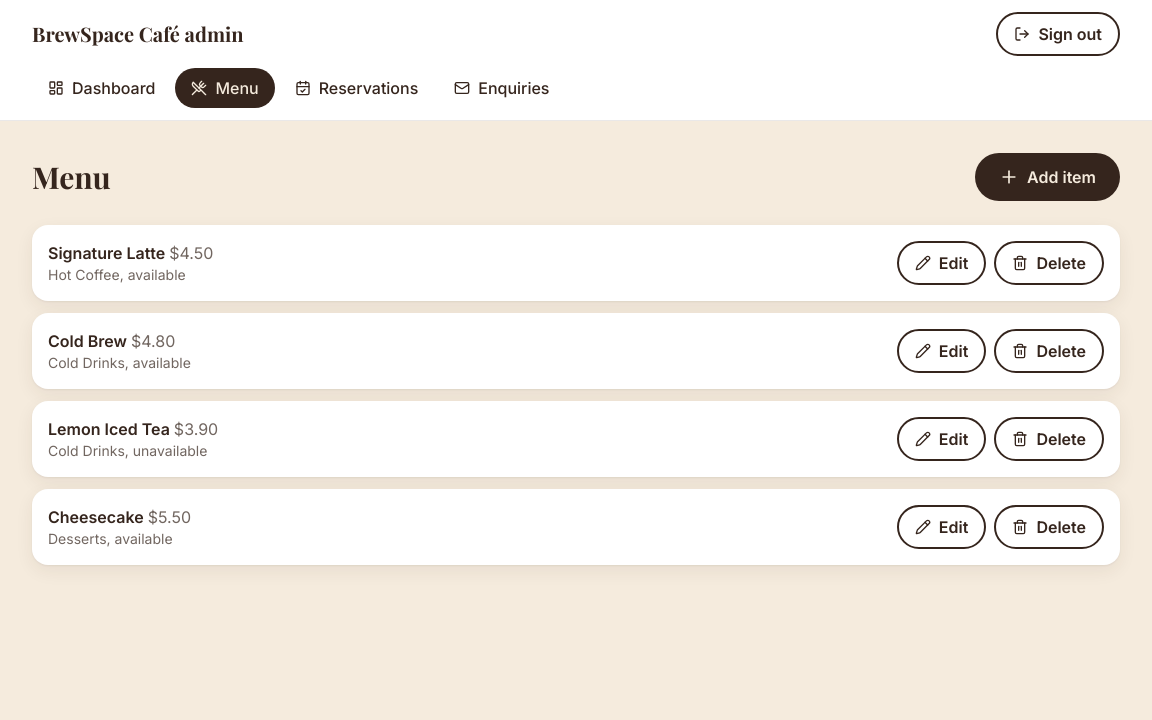
admin menu management › edits an item with PATCH
Click the button with aria-label "Edit Cold Brew" at {"x": 942, "y": 351}, box left=897, top=329, right=986, bottom=373
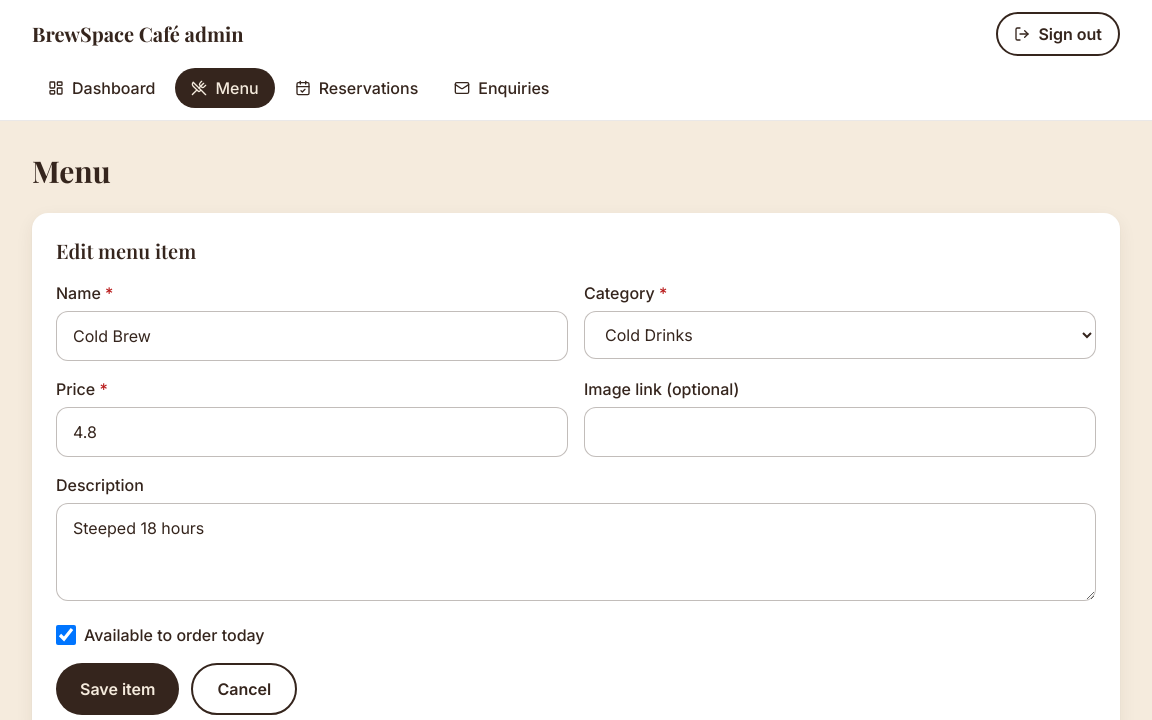
Replace the text in the number field labelled "Price *" with "5.10" at {"x": 312, "y": 432}, box left=56, top=407, right=568, bottom=457
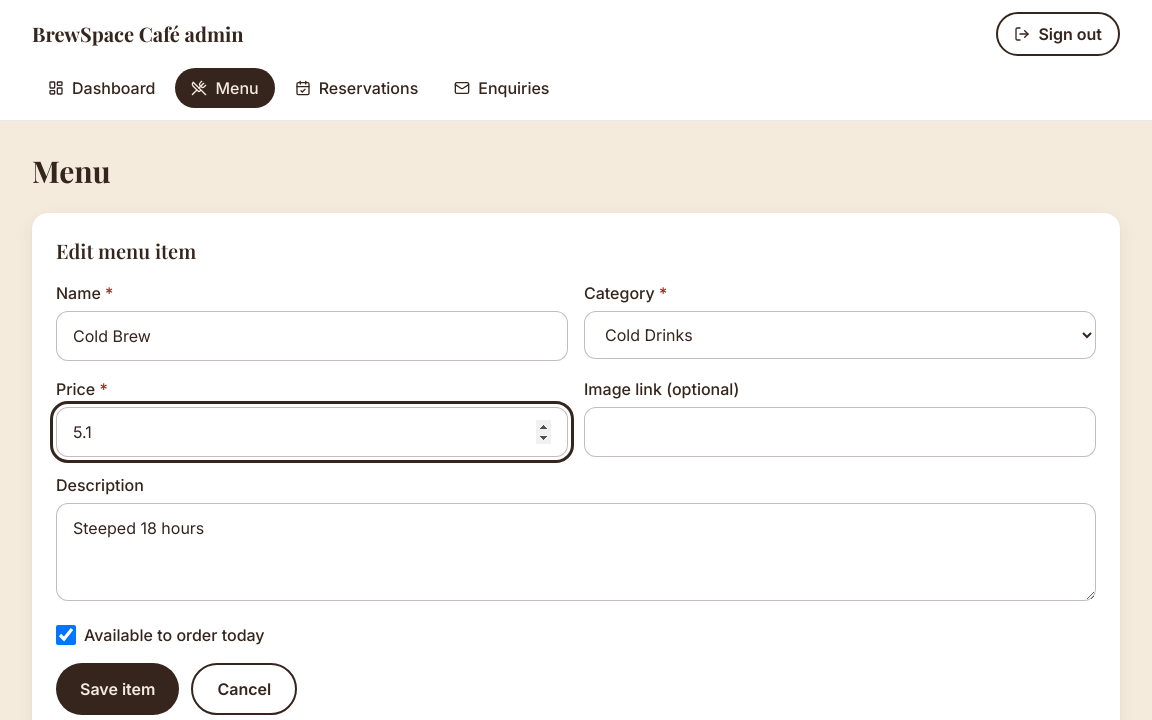
Click the button "Save item" at {"x": 118, "y": 689}, box left=56, top=663, right=180, bottom=715
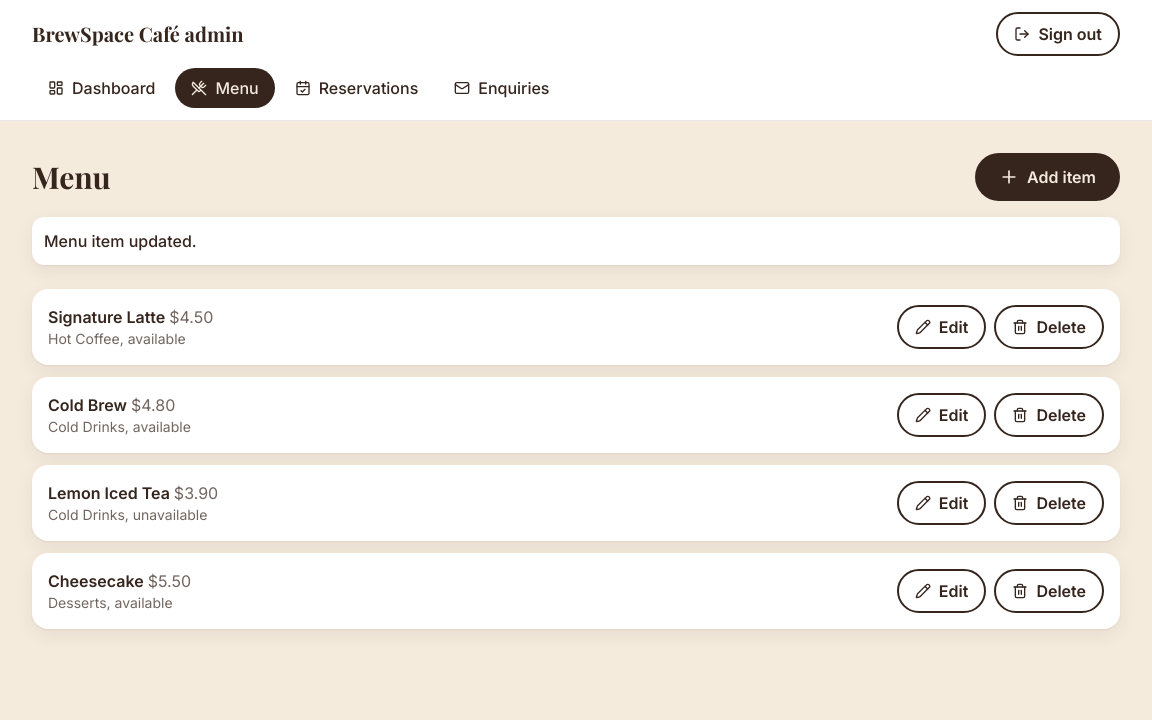
Result: the message reads "Menu item updated." at left=44, top=231, right=197, bottom=251
